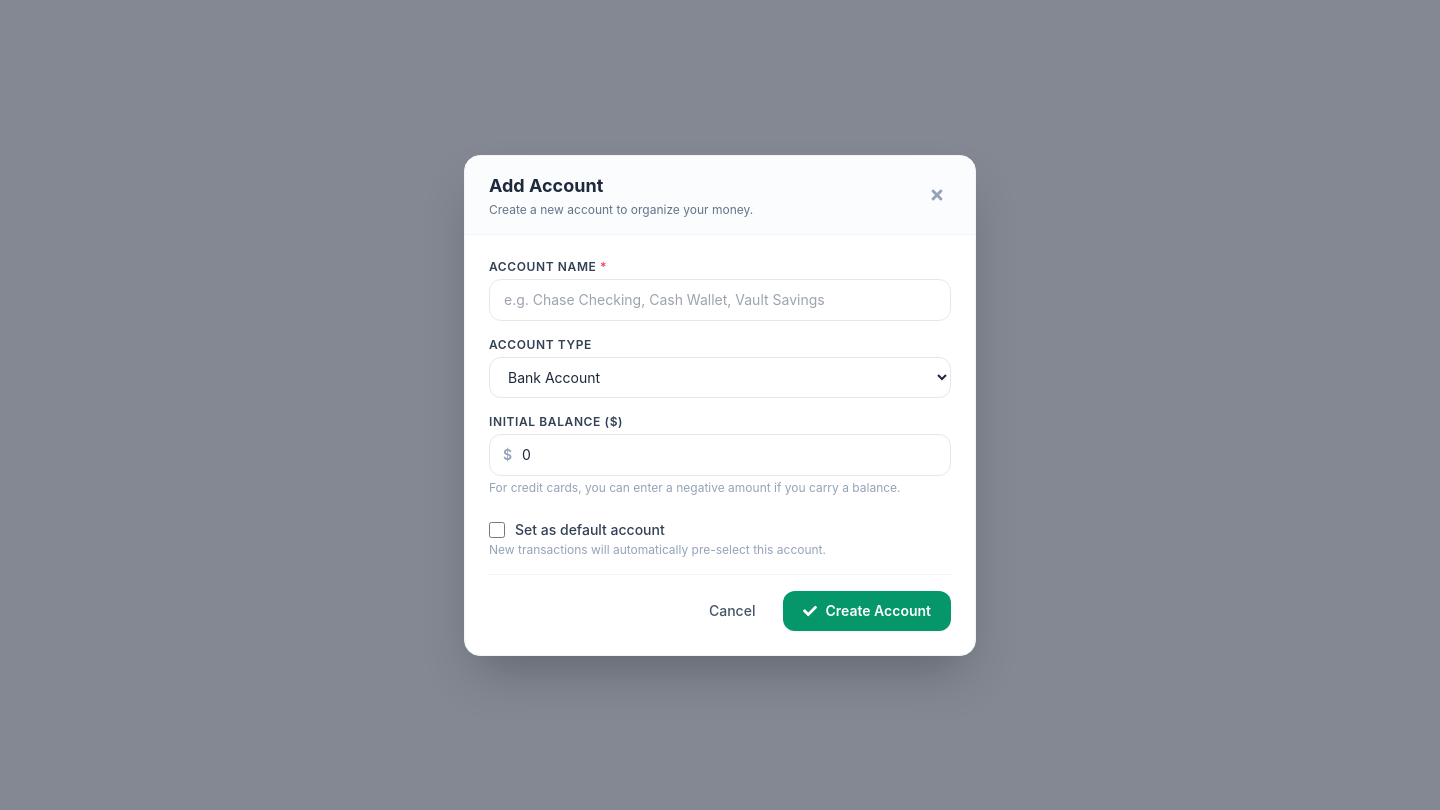
Test: AccountModal Component › validates empty account name before submitting
The image size is (1440, 810).
Click the button "Create Account" at (867,610), box [784, 590, 951, 630]
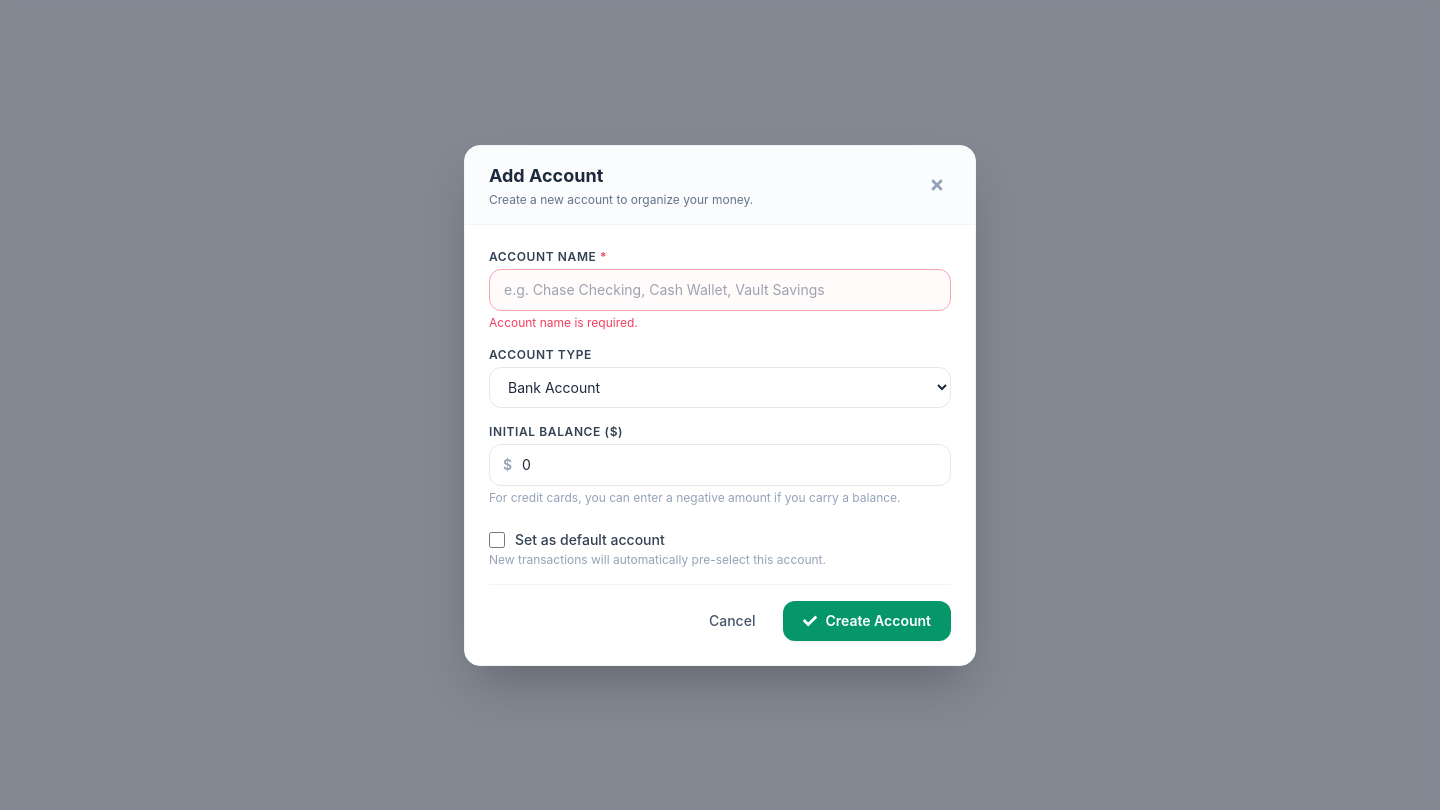
Expected: the text "Account name is required." is shown, [489, 314, 638, 330]
